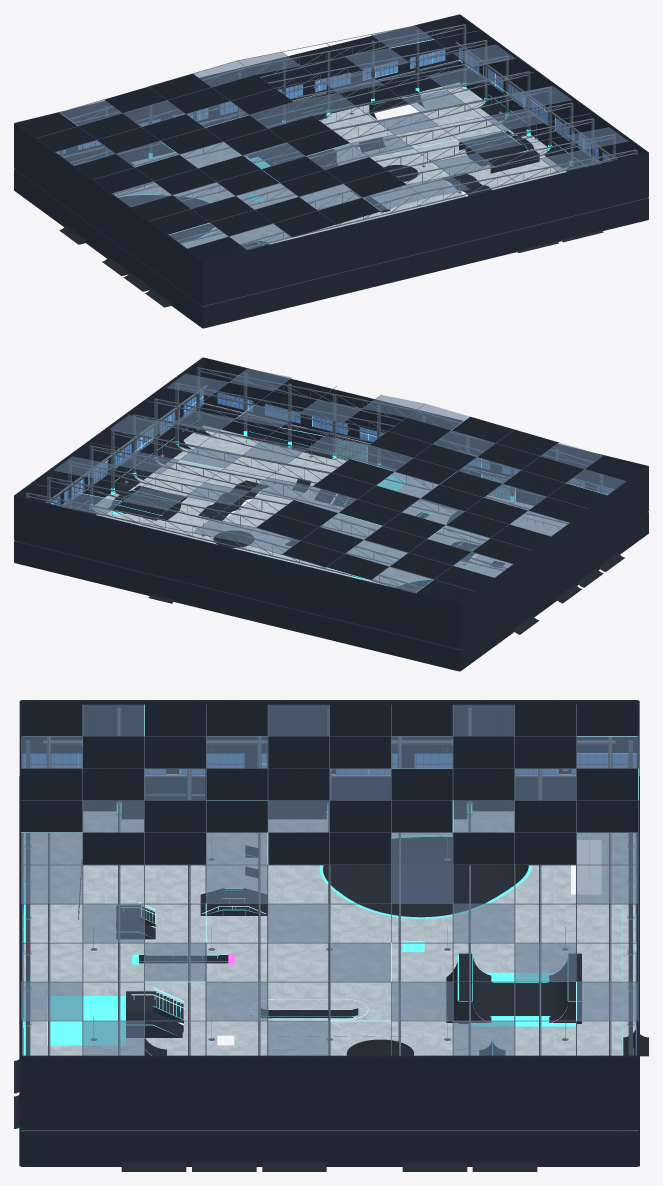
The model's file is tron-warehouse.glb.
The picture shows the model from 3 angles, top to bottom: view 1: azimuth 30°, elevation 25°; view 2: azimuth 150°, elevation 25°; view 3: azimuth 270°, elevation 25°; orthographic projection. The views are drawn at different scales.
Parts seen in each view (by area): view 1: 06_ROOF_CUTAWAY / Roof_Panels_and_Skylights / Corrugated_Roo (×33), 06_ROOF_CUTAWAY / Roof_Panels_and_Skylights / Skylight_Glass (×34), 05_BUILDING / Warehouse_Walls / Cladding_Upper_Wall 004, 00_GROUND / Ground_Floor / Foundry_Premium_White_Marble_Floo, 05_BUILDING / Warehouse_Walls / Brick_North_South_Wall 002, 05_BUILDING / Warehouse_Walls / Cladding_Upper_Wall 003, 05_BUILDING / Warehouse_Walls / Cladding_Upper_Wall 001, 05_BUILDING / Warehouse_Walls / Cladding_Upper_Wall 002, 05_BUILDING / Warehouse_Walls / Brick_North_South_Wall 001, 05_BUILDING / Warehouse_Walls / Brick_East_West_Wall 001, 04_FLOW_LAB / Flow mini transition / Back_Panel 002, 05_BUILDING / Warehouse_Walls / Brick_East_West_Wall 002 (+10 smaller); view 2: 06_ROOF_CUTAWAY / Roof_Panels_and_Skylights / Corrugated_Roo (×33), 06_ROOF_CUTAWAY / Roof_Panels_and_Skylights / Skylight_Glass (×34), 05_BUILDING / Warehouse_Walls / Cladding_Upper_Wall 003, 00_GROUND / Ground_Floor / Foundry_Premium_White_Marble_Floo, 05_BUILDING / Warehouse_Walls / Brick_North_South_Wall 001, 05_BUILDING / Warehouse_Walls / Cladding_Upper_Wall 004, 05_BUILDING / Warehouse_Walls / Cladding_Upper_Wall 001, 05_BUILDING / Warehouse_Walls / Cladding_Upper_Wall 002, 05_BUILDING / Warehouse_Walls / Brick_East_West_Wall 001, 05_BUILDING / Warehouse_Walls / Brick_North_South_Wall 002, 05_BUILDING / Warehouse_Walls / Brick_East_West_Wall 002, 04_FLOW_LAB / Flow mini transition / Back_Panel 002 (+8 smaller); view 3: 00_GROUND / Ground_Floor / Foundry_Premium_White_Marble_Floo, 06_ROOF_CUTAWAY / Roof_Panels_and_Skylights / Skylight_Glass (×34), 06_ROOF_CUTAWAY / Roof_Panels_and_Skylights / Corrugated_Roo (×33), 05_BUILDING / Warehouse_Walls / Cladding_Upper_Wall 002, 05_BUILDING / Warehouse_Walls / Brick_East_West_Wall 002, 05_BUILDING / Warehouse_Walls / Cladding_Upper_Wall 001, 02_TIMBER_BOWL / Timber_Multi_Depth_Bowl / Timber_Bowl_Floor, 03_VERT_HALL / Competition halfpipe / Skateable_Surface 001, 05_BUILDING / Warehouse_Walls / Brick_East_West_Wall 001, 01_STREET_DISTRICT / Street low kicker east / Side_Edge_Band (×2), 02_TIMBER_BOWL / Timber_Multi_Depth_Bowl / Timber_Bowl_Deep_, 03_VERT_HALL / Foundry mini halfpipe / Side_Edge_Band 001 (+9 smaller).
Boxes of the visible parts, x1=… form: 06_ROOF_CUTAWAY / Roof_Panels_and_Skylights / Corrugated_Roo (×33): x1=18, y1=73, x2=405, y2=260; 06_ROOF_CUTAWAY / Roof_Panels_and_Skylights / Skylight_Glass (×34): x1=56, y1=26, x2=627, y2=249; 05_BUILDING / Warehouse_Walls / Cladding_Upper_Wall 004: x1=203, y1=152, x2=648, y2=305; 00_GROUND / Ground_Floor / Foundry_Premium_White_Marble_Floo: x1=115, y1=82, x2=568, y2=248; 05_BUILDING / Warehouse_Walls / Brick_North_South_Wall 002: x1=203, y1=198, x2=648, y2=328; 05_BUILDING / Warehouse_Walls / Cladding_Upper_Wall 003: x1=14, y1=14, x2=459, y2=155; 05_BUILDING / Warehouse_Walls / Cladding_Upper_Wall 001: x1=14, y1=123, x2=203, y2=305; 05_BUILDING / Warehouse_Walls / Cladding_Upper_Wall 002: x1=459, y1=14, x2=648, y2=196; 05_BUILDING / Warehouse_Walls / Brick_North_South_Wall 001: x1=14, y1=60, x2=459, y2=169; 05_BUILDING / Warehouse_Walls / Brick_East_West_Wall 001: x1=14, y1=169, x2=203, y2=328; 04_FLOW_LAB / Flow mini transition / Back_Panel 002: x1=459, y1=131, x2=539, y2=173; 05_BUILDING / Warehouse_Walls / Brick_East_West_Wall 002: x1=459, y1=62, x2=648, y2=218; 06_ROOF_CUTAWAY / Roof_Panels_and_Skylights / Corrugated_Roo (×33): x1=257, y1=416, x2=644, y2=603; 06_ROOF_CUTAWAY / Roof_Panels_and_Skylights / Skylight_Glass (×34): x1=54, y1=369, x2=625, y2=592; 05_BUILDING / Warehouse_Walls / Cladding_Upper_Wall 003: x1=14, y1=495, x2=459, y2=648; 00_GROUND / Ground_Floor / Foundry_Premium_White_Marble_Floo: x1=93, y1=425, x2=567, y2=587; 05_BUILDING / Warehouse_Walls / Brick_North_South_Wall 001: x1=14, y1=541, x2=459, y2=671; 05_BUILDING / Warehouse_Walls / Cladding_Upper_Wall 004: x1=203, y1=357, x2=648, y2=491; 05_BUILDING / Warehouse_Walls / Cladding_Upper_Wall 001: x1=459, y1=466, x2=648, y2=648; 05_BUILDING / Warehouse_Walls / Cladding_Upper_Wall 002: x1=14, y1=357, x2=203, y2=539; 05_BUILDING / Warehouse_Walls / Brick_East_West_Wall 001: x1=459, y1=512, x2=648, y2=671; 05_BUILDING / Warehouse_Walls / Brick_North_South_Wall 002: x1=203, y1=403, x2=648, y2=512; 05_BUILDING / Warehouse_Walls / Brick_East_West_Wall 002: x1=14, y1=405, x2=203, y2=561; 04_FLOW_LAB / Flow mini transition / Back_Panel 002: x1=108, y1=485, x2=187, y2=521; 00_GROUND / Ground_Floor / Foundry_Premium_White_Marble_Floo: x1=23, y1=811, x2=635, y2=1055; 06_ROOF_CUTAWAY / Roof_Panels_and_Skylights / Skylight_Glass (×34): x1=21, y1=704, x2=637, y2=1055; 06_ROOF_CUTAWAY / Roof_Panels_and_Skylights / Corrugated_Roo (×33): x1=21, y1=704, x2=637, y2=864; 05_BUILDING / Warehouse_Walls / Cladding_Upper_Wall 002: x1=21, y1=1055, x2=638, y2=1129; 05_BUILDING / Warehouse_Walls / Brick_East_West_Wall 002: x1=21, y1=1131, x2=638, y2=1166; 05_BUILDING / Warehouse_Walls / Cladding_Upper_Wall 001: x1=21, y1=700, x2=638, y2=773; 02_TIMBER_BOWL / Timber_Multi_Depth_Bowl / Timber_Bowl_Floor: x1=339, y1=859, x2=508, y2=917; 03_VERT_HALL / Competition halfpipe / Skateable_Surface 001: x1=458, y1=953, x2=581, y2=1022; 05_BUILDING / Warehouse_Walls / Brick_East_West_Wall 001: x1=83, y1=777, x2=575, y2=810; 01_STREET_DISTRICT / Street low kicker east / Side_Edge_Band (×2): x1=47, y1=996, x2=125, y2=1045; 02_TIMBER_BOWL / Timber_Multi_Depth_Bowl / Timber_Bowl_Deep_: x1=323, y1=837, x2=528, y2=897; 03_VERT_HALL / Foundry mini halfpipe / Side_Edge_Band 001: x1=471, y1=972, x2=575, y2=1026.
Bounding box in the file's own units: 155 × 28.05 × 113.
23 materials, 7 textured.
